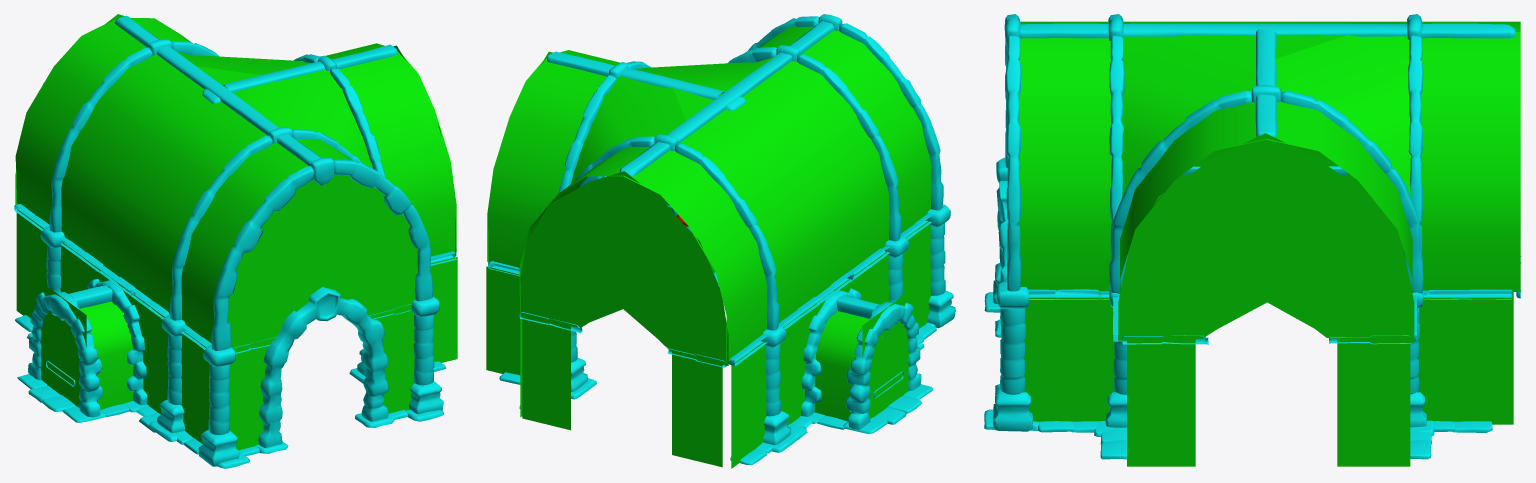
Rendered from Hallway_TSection_4.fbx.
The picture shows the model from 3 angles, left to right: view 1: azimuth 30°, elevation 25°; view 2: azimuth 150°, elevation 25°; view 3: azimuth 270°, elevation 25°; orthographic projection. The views are drawn at different scales.
Parts seen in each view (by area): view 1: Room_T_4:TSection4FinishedRoomsWalls1, Room_T_4:TSection4FinishedRoomsFrame; view 2: Room_T_4:TSection4FinishedRoomsWalls1, Room_T_4:TSection4FinishedRoomsFrame; view 3: Room_T_4:TSection4FinishedRoomsWalls1, Room_T_4:TSection4FinishedRoomsFrame.
Part boxes in pixels (box(x1,y1,x2,y2)): Room_T_4:TSection4FinishedRoomsWalls1: box(15, 14, 457, 450); Room_T_4:TSection4FinishedRoomsFrame: box(14, 15, 456, 468); Room_T_4:TSection4FinishedRoomsWalls1: box(486, 26, 931, 468); Room_T_4:TSection4FinishedRoomsFrame: box(488, 14, 955, 464); Room_T_4:TSection4FinishedRoomsWalls1: box(1019, 21, 1520, 466); Room_T_4:TSection4FinishedRoomsFrame: box(984, 14, 1521, 459).
Bounding box in the file's own units: 1213 × 1274 × 897.
